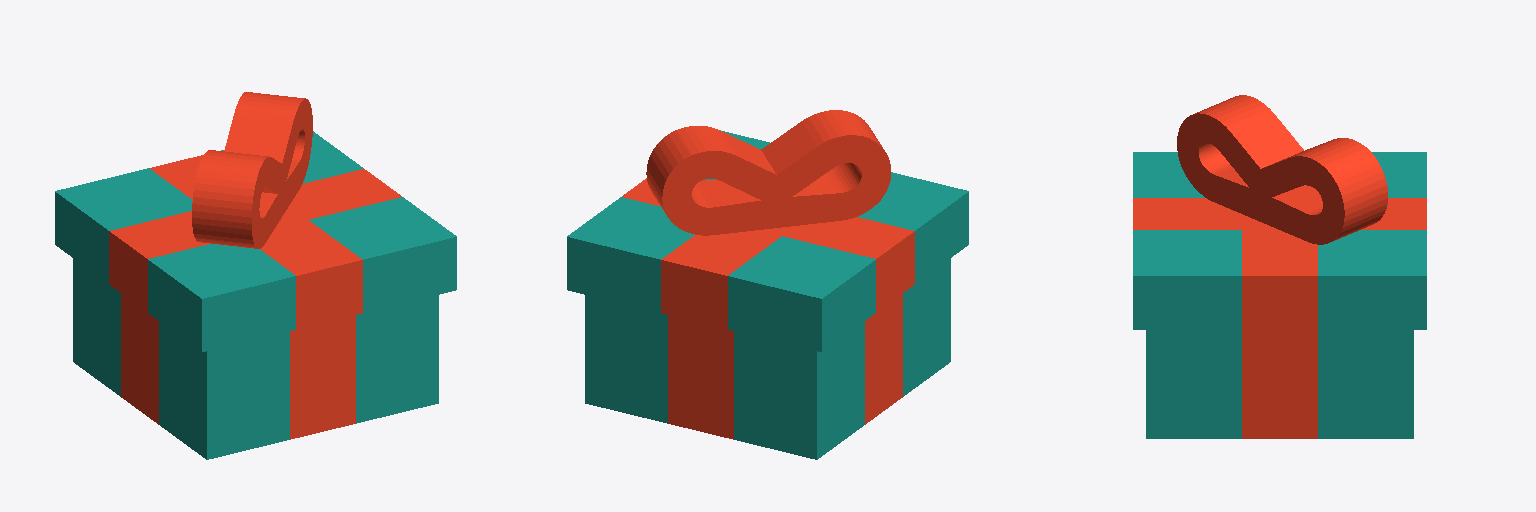
The model's file is presentGreen.obj.
3 renders of one model, left to right at view 1: azimuth 30°, elevation 25°; view 2: azimuth 150°, elevation 25°; view 3: azimuth 270°, elevation 25°, orthographic.
Visible parts, largest first — view 1: lid, presentGreen; view 2: lid, presentGreen; view 3: lid, presentGreen.
Part boxes in pixels (x1,y1,x2,y2): lid: (55, 92, 456, 351); presentGreen: (73, 258, 438, 459); lid: (567, 110, 968, 351); presentGreen: (585, 258, 950, 459); lid: (1133, 95, 1426, 329); presentGreen: (1146, 330, 1413, 438).
Size of the model in its own units: 0.3727 by 0.3535 by 0.3727.